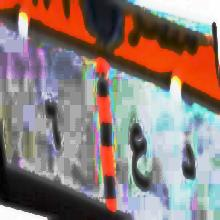6: (41, 98, 65, 154)
ain: (129, 124, 154, 208)
daal: (175, 133, 197, 190)
